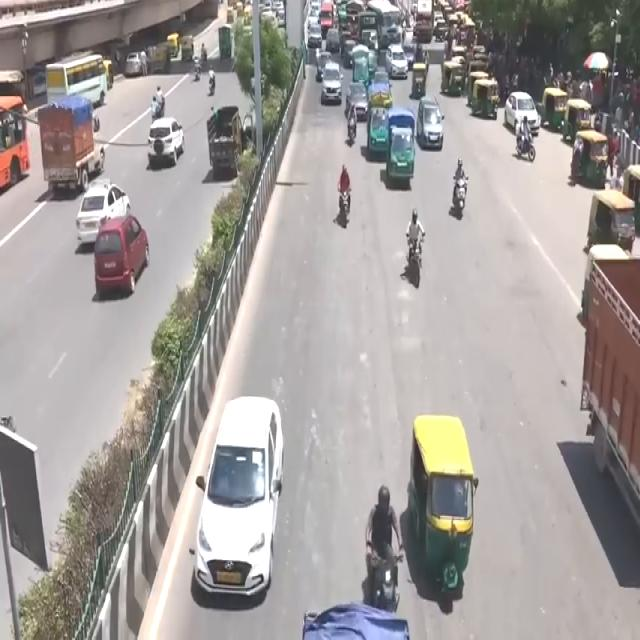BUS: (0, 87, 30, 200)
MOTORCYCLE: (365, 537, 398, 618), (409, 235, 425, 289), (454, 178, 468, 221), (340, 190, 352, 230)
TRUCK: (41, 100, 105, 195)
